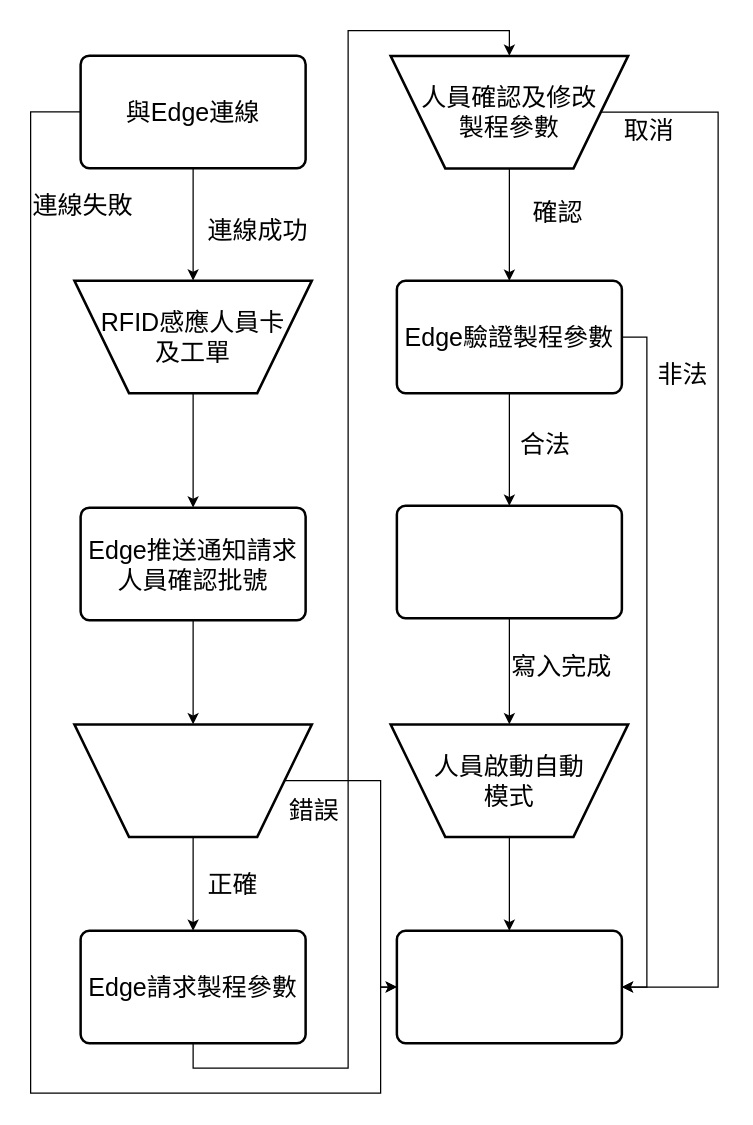
This 753x1125 diagram has some shape labels left out. The centre of each missing label's shape, as x and y in pixels:
人員比對確認 批號: pixel 192 780
與Edge中斷連線: pixel 508 986
製程參數寫入PLC: pixel 508 561
